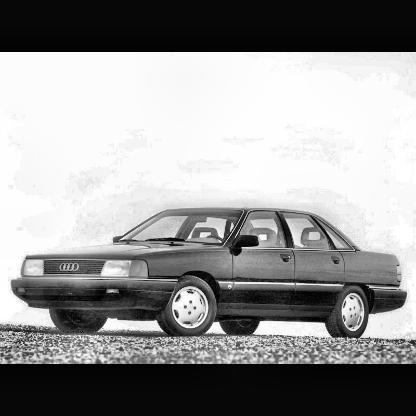Audi 100 Sedan 1994: (13, 209, 410, 340)
